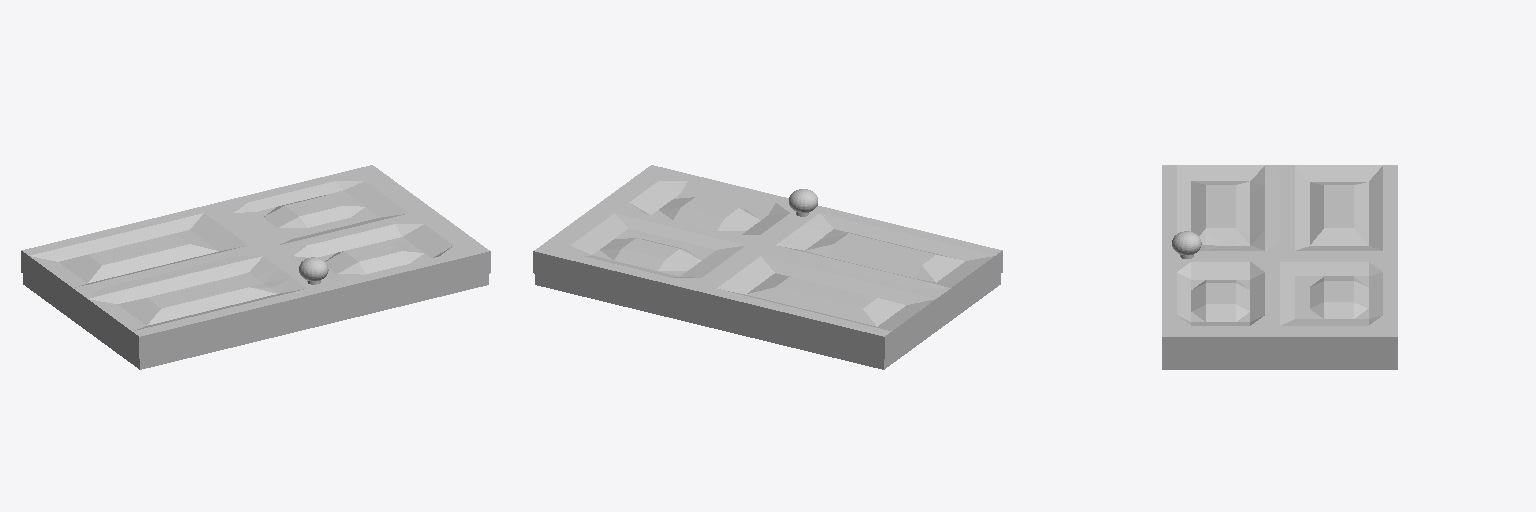
File: door.obj
3 views of the same model, side by side, from view 1: azimuth 30°, elevation 25°; view 2: azimuth 150°, elevation 25°; view 3: azimuth 270°, elevation 25° (orthographic).
Size of the model in its own units: 7.07 by 1.09 by 4.12.